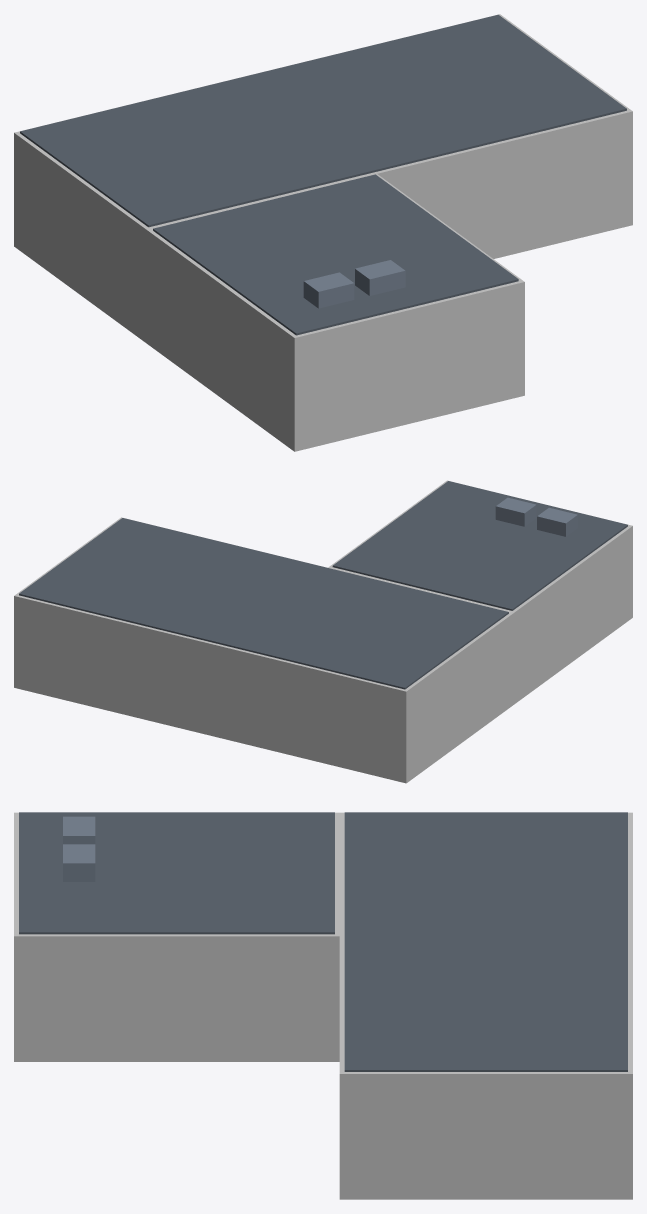
File: commercial_complex.glb
3 views of the same model, one above another, from view 1: azimuth 30°, elevation 25°; view 2: azimuth 150°, elevation 25°; view 3: azimuth 270°, elevation 25° (orthographic). The views are drawn at different scales.
Visible parts, largest first — view 1: CommercialComplex; view 2: CommercialComplex; view 3: CommercialComplex.
Part boxes in pixels (box(x1,y1,x2,y2)): CommercialComplex: box(14, 14, 632, 451); CommercialComplex: box(14, 480, 632, 783); CommercialComplex: box(14, 812, 632, 1199).
Size of the model in its own units: 38 by 9.9 by 38.
